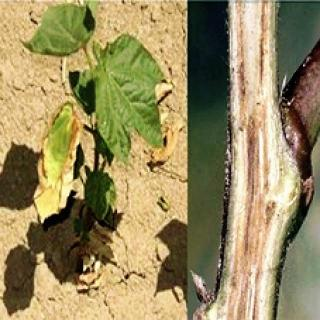wilt: (233, 66, 283, 262), (30, 100, 75, 218)
